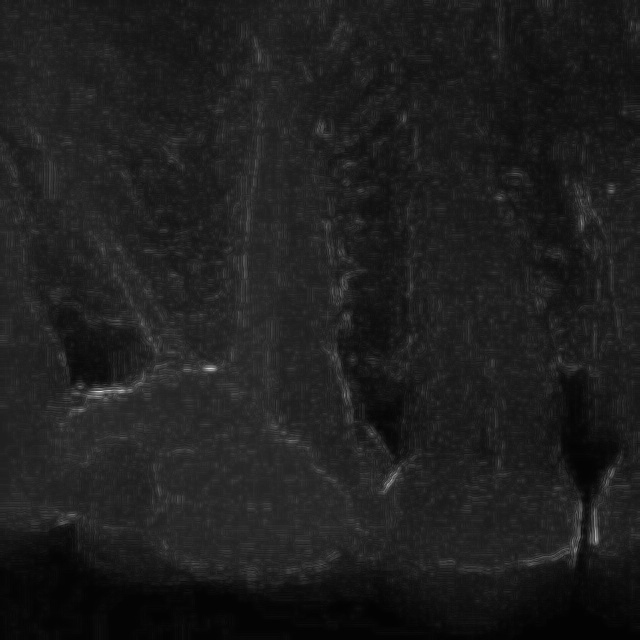Class 0- No endodontic treatment: (5, 31, 434, 608)
cavity: (356, 80, 600, 605)
